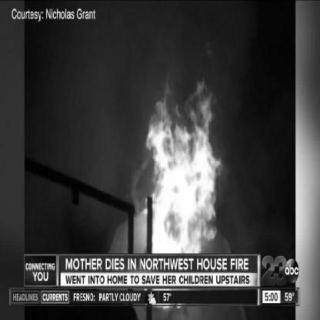Fire: (148, 84, 224, 254)
